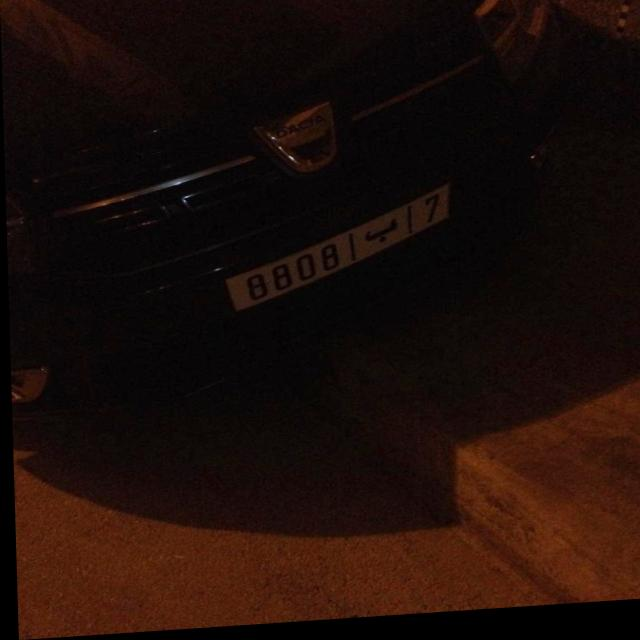License-Plate: (224, 192, 448, 313)
